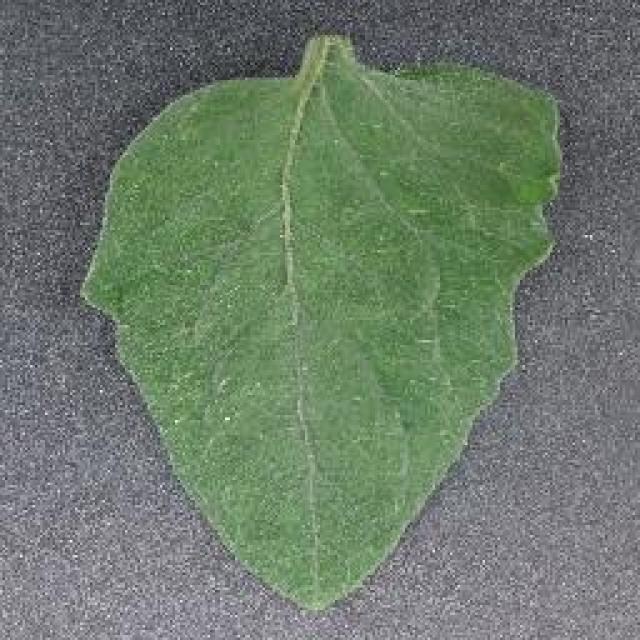Tomato___healthy: (83, 33, 563, 610)
